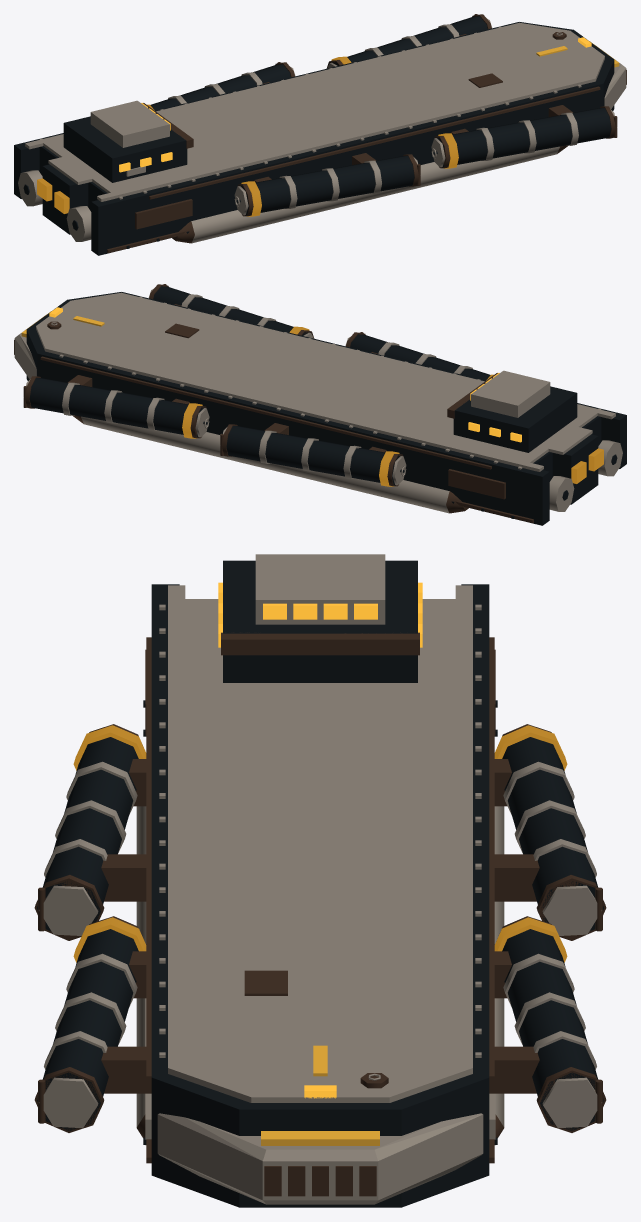
Rendered from broadside-bathyarch.glb.
3 renders of one model, top to bottom at view 1: azimuth 30°, elevation 25°; view 2: azimuth 150°, elevation 25°; view 3: azimuth 270°, elevation 25°, orthographic. The views are drawn at different scales.
Visible parts, largest first — view 1: deck, hull_lower, ballast_s, casing_s1, casing_s0, citadel, citadel_top, flank_seam_s, casing_p0, casing_p1, flank_plate_s1, prop_shroud_s (+5 smaller); view 2: deck, hull_lower, ballast_p, casing_p1, casing_p0, citadel, citadel_top, flank_seam_p, casing_s0, casing_s1, flank_plate_p1, prop_shroud_p (+5 smaller); view 3: deck, hull_lower, ram_plate, citadel, citadel_top, casing_p0, casing_s0, casing_s1, casing_p1, citadel_visor, flank_seam_s, flank_seam_p (+18 smaller).
Part boxes in pixels (left/top/right/bottom): deck: left=25, top=22, right=604, bottom=201; hull_lower: left=14, top=22, right=614, bottom=255; ballast_s: left=191, top=146, right=559, bottom=243; casing_s1: left=238, top=156, right=414, bottom=215; casing_s0: left=435, top=108, right=611, bottom=167; citadel: left=63, top=116, right=187, bottom=182; citadel_top: left=90, top=100, right=169, bottom=147; flank_seam_s: left=149, top=86, right=600, bottom=199; casing_p0: left=328, top=16, right=487, bottom=65; casing_p1: left=150, top=64, right=290, bottom=110; flank_plate_s1: left=135, top=199, right=192, bottom=229; prop_shroud_s: left=66, top=206, right=91, bottom=241; deck: left=36, top=292, right=615, bottom=471; hull_lower: left=26, top=292, right=626, bottom=525; ballast_p: left=81, top=416, right=449, bottom=513; casing_p1: left=226, top=426, right=402, bottom=485; casing_p0: left=29, top=378, right=205, bottom=437; citadel: left=453, top=386, right=577, bottom=452; citadel_top: left=471, top=370, right=550, bottom=417; flank_seam_p: left=40, top=356, right=491, bottom=469; casing_s0: left=153, top=286, right=312, bottom=335; casing_s1: left=350, top=334, right=490, bottom=380; flank_plate_p1: left=448, top=469, right=505, bottom=499; prop_shroud_p: left=549, top=476, right=574, bottom=511; deck: left=168, top=585, right=472, bottom=1102; hull_lower: left=151, top=584, right=489, bottom=1207; ram_plate: left=157, top=1113, right=483, bottom=1204; citadel: left=223, top=560, right=417, bottom=682; citadel_top: left=255, top=554, right=385, bottom=624; casing_p0: left=502, top=929, right=603, bottom=1130; casing_s0: left=37, top=929, right=138, bottom=1130; casing_s1: left=37, top=737, right=138, bottom=931; casing_p1: left=502, top=737, right=603, bottom=931; citadel_visor: left=221, top=632, right=419, bottom=655; flank_seam_s: left=146, top=637, right=151, bottom=1081; flank_seam_p: left=489, top=637, right=494, bottom=1081.
Size of the model in its own units: 120 by 20.15 by 52.84.
